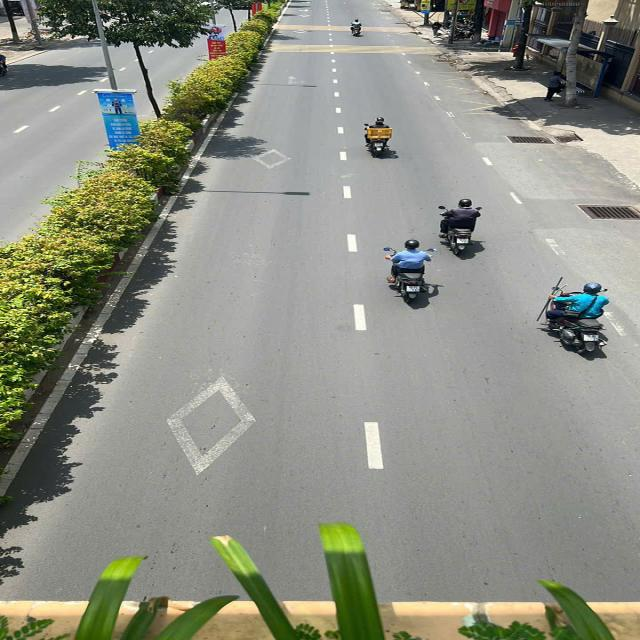motobyte: (546, 283, 607, 354), (376, 244, 436, 304), (432, 202, 478, 247), (361, 115, 392, 156), (346, 19, 365, 40)
